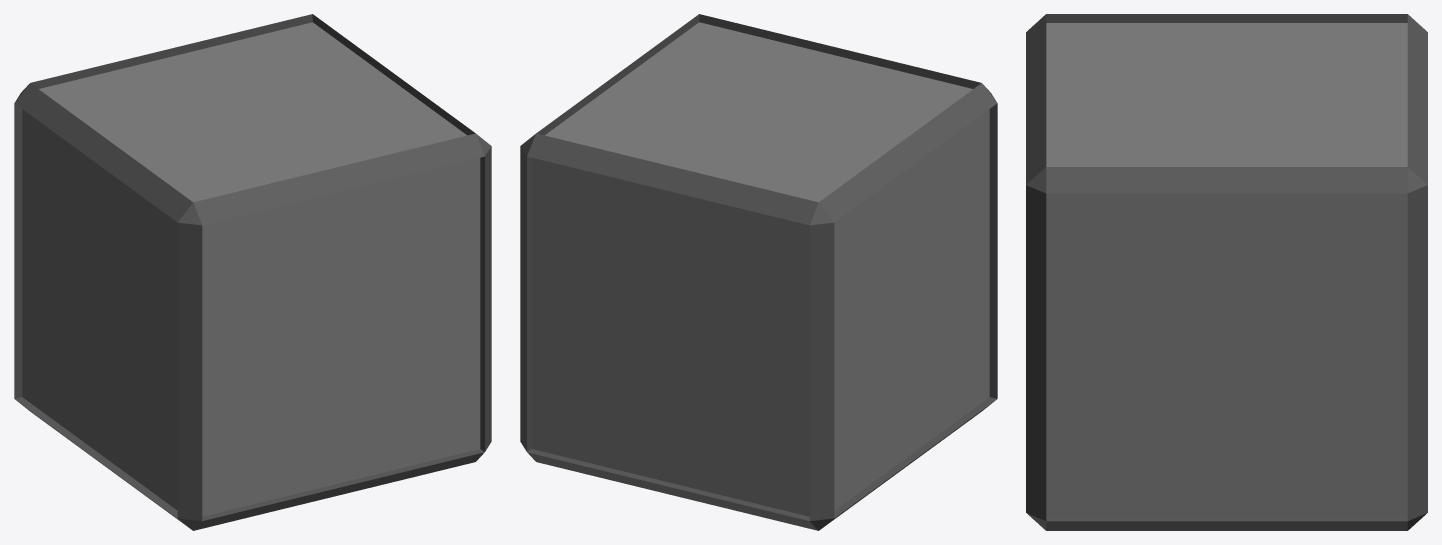
The model's file is Crate_2x2.fbx.
The picture shows the model from 3 angles, left to right: view 1: azimuth 30°, elevation 25°; view 2: azimuth 150°, elevation 25°; view 3: azimuth 270°, elevation 25°; orthographic projection. The views are drawn at different scales.
Parts seen in each view (by area): view 1: Crate_2x2; view 2: Crate_2x2; view 3: Crate_2x2.
Part boxes in pixels (left/top/right/bottom): Crate_2x2: left=14, top=14, right=491, bottom=530; Crate_2x2: left=520, top=14, right=997, bottom=530; Crate_2x2: left=1026, top=14, right=1427, bottom=530.
Bounding box in the file's own units: 200 × 200 × 200.
